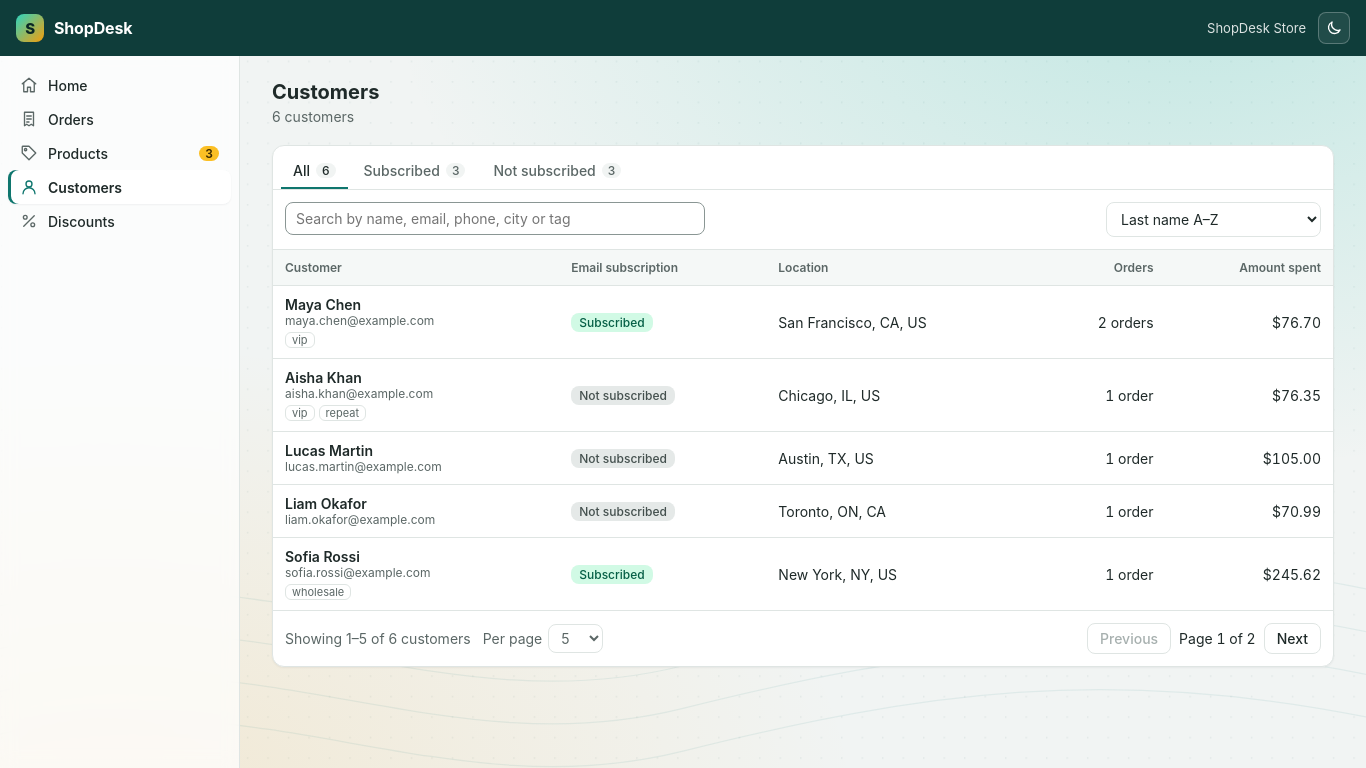
CustomersPage › search › shows an empty state and hides pagination when nothing matches
Type "nobody here" into the search field named "Search customers" at (495, 218), box [285,202,705,235]
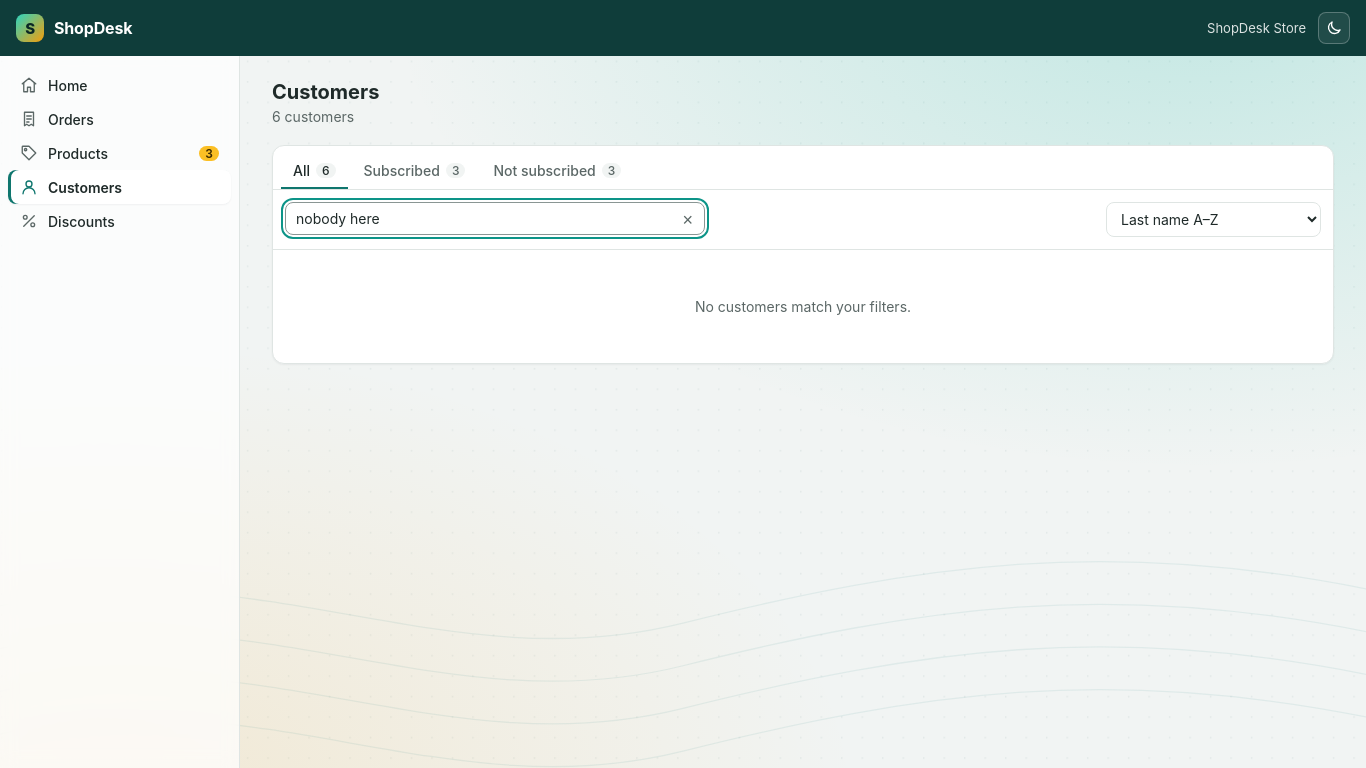
Now the text "No customers match your filters." is shown, box [695,298,911,315]
Now the navigation bar "Pagination" is gone
